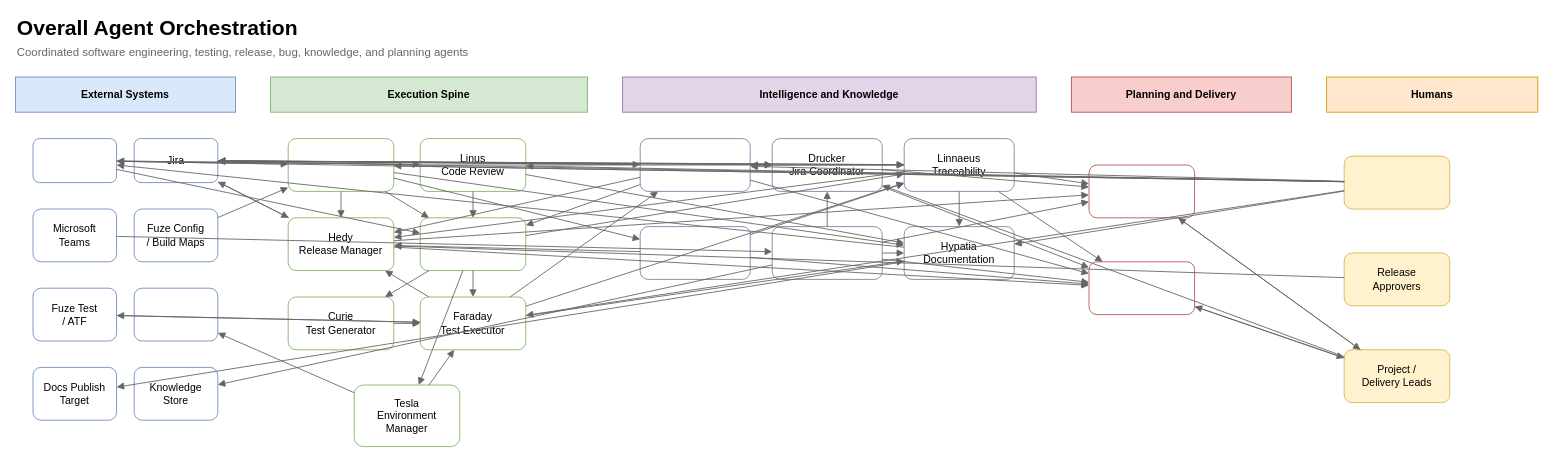
Image size: 1553x462. Some labels were removed from this diagram. Here are the shapes that lost their labels. From the top down, the box of each, then its label:
(32, 138, 117, 183): GitHub
(287, 138, 394, 191): Josephine Build & Package
(639, 138, 750, 191): Nightingale Bug Investigation
(1088, 164, 1195, 218): Gantt Project Planner
(1343, 155, 1450, 209): Engineers / Reviewers
(419, 217, 526, 271): Ada Test Planner
(639, 226, 750, 279): Babbage Version Manager
(771, 226, 882, 279): Herodotus Knowledge Capture
(1088, 261, 1195, 315): Brooks Delivery Manager
(133, 287, 218, 341): HW / Mock Environments
